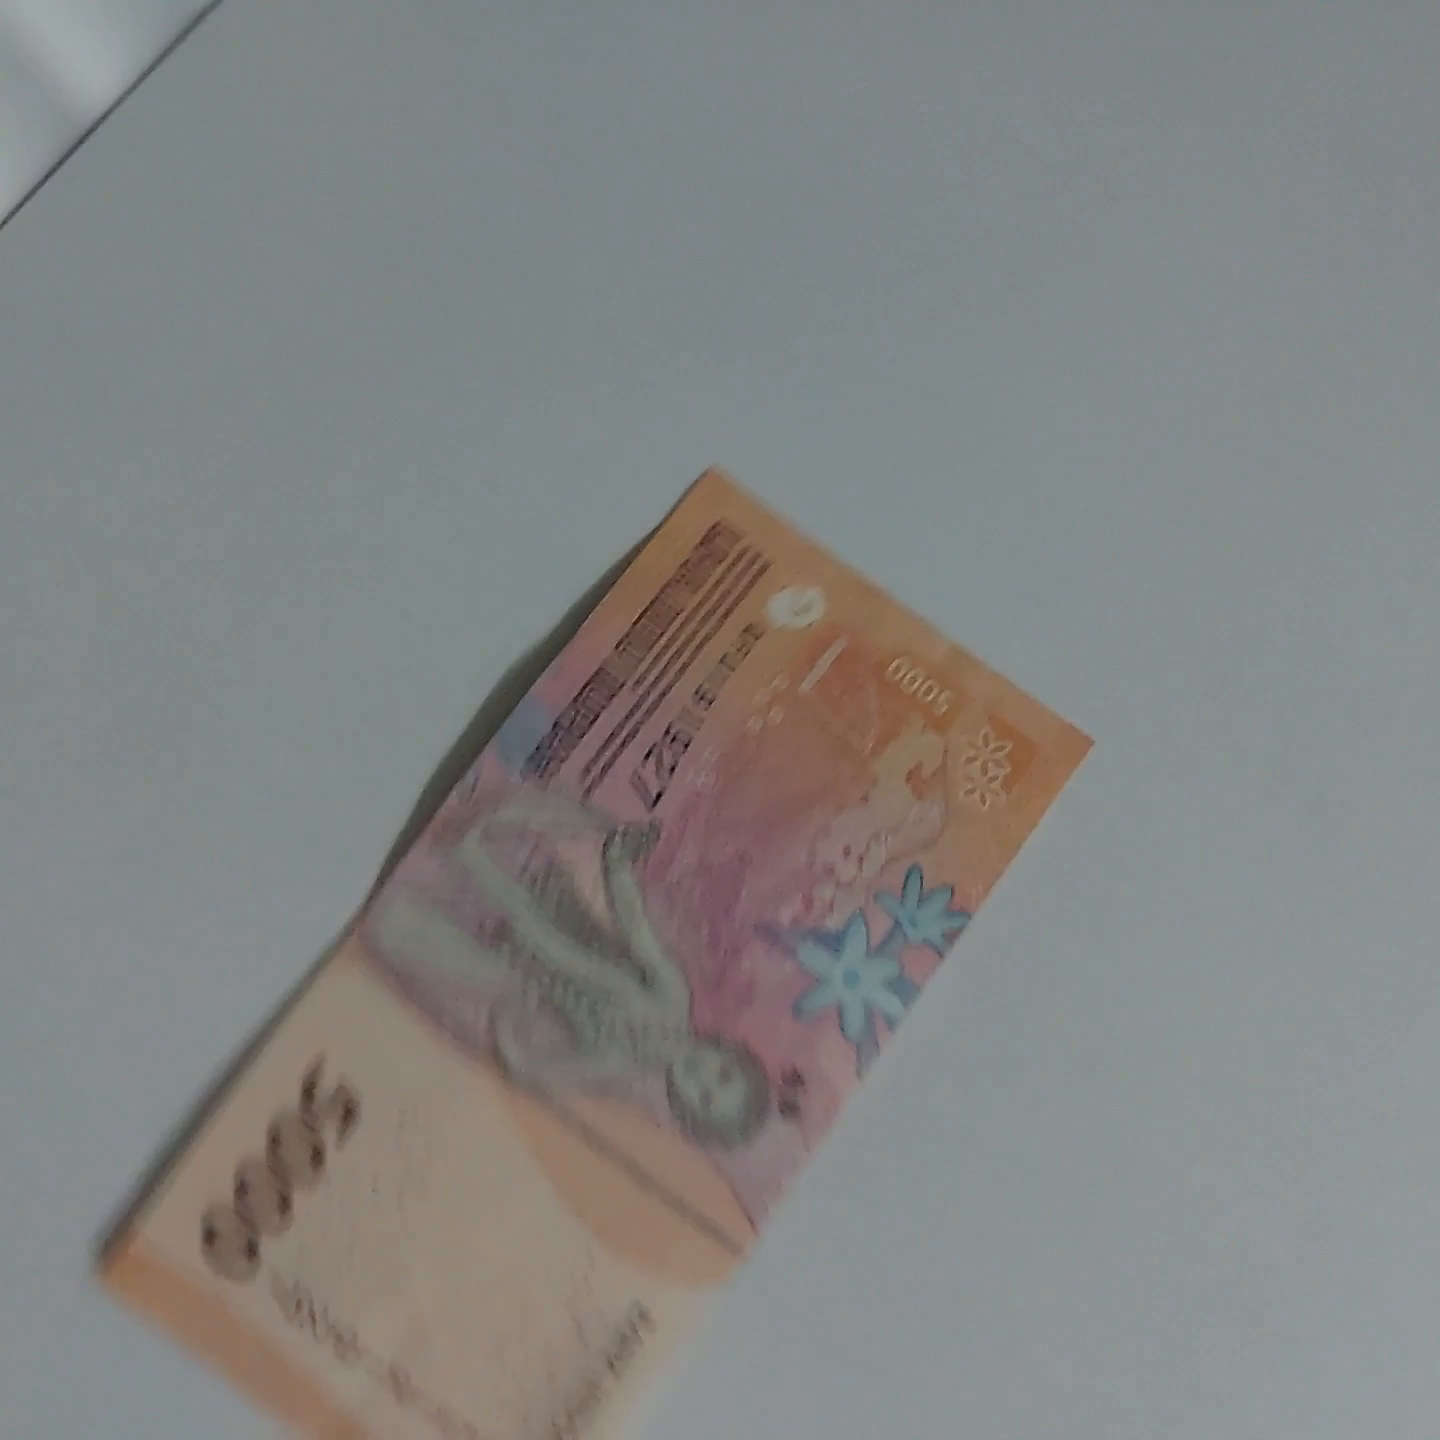5k: (70, 456, 1201, 1440)
